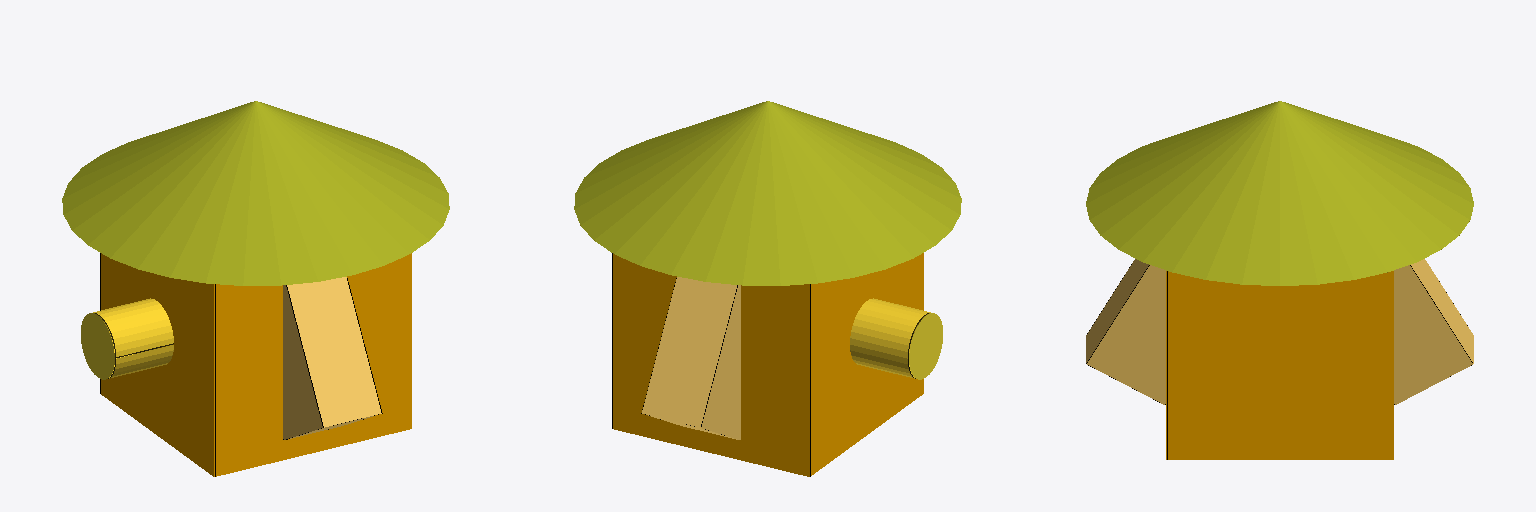
The picture shows the model from 3 angles: view 1: azimuth 30°, elevation 25°; view 2: azimuth 150°, elevation 25°; view 3: azimuth 270°, elevation 25°; orthographic projection.
Visible parts, largest first — view 1: 円錐.003; view 2: 円錐.003; view 3: 円錐.003.
Boxes of the visible parts, box(x1,y1,x2,y2) form: 円錐.003: box(62, 101, 449, 476); 円錐.003: box(574, 101, 961, 476); 円錐.003: box(1086, 101, 1473, 459).
Bounding box in the file's own units: 3.4 × 3 × 3.4.
Materials: 1 (1 with a texture image).